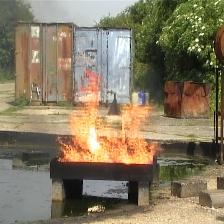fire: (57, 94, 146, 162)
